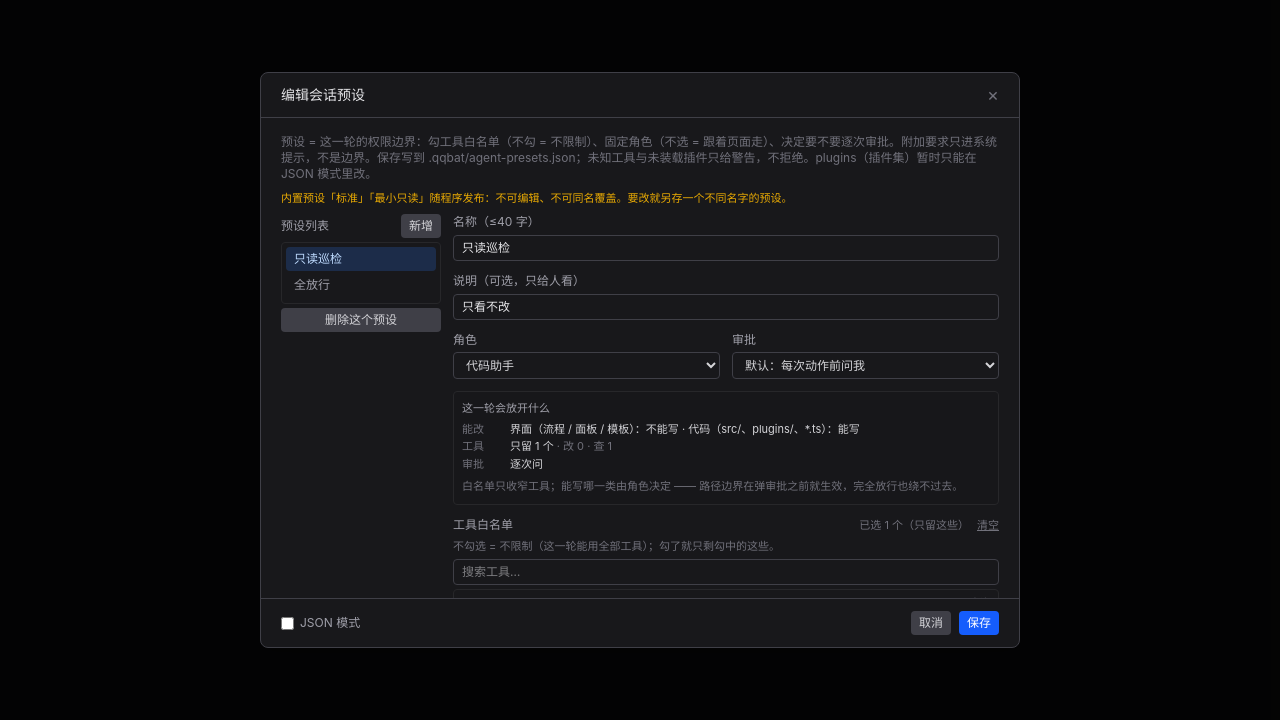
Test: 预设编辑（表单） › JSON 模式解析失败不吞内容：留在 JSON 模式并报错
Expected: the button "只读巡检" is shown, [286,247,436,271]
Click the checkbox labelled "JSON 模式" at (288, 623), box [281,616,294,630]
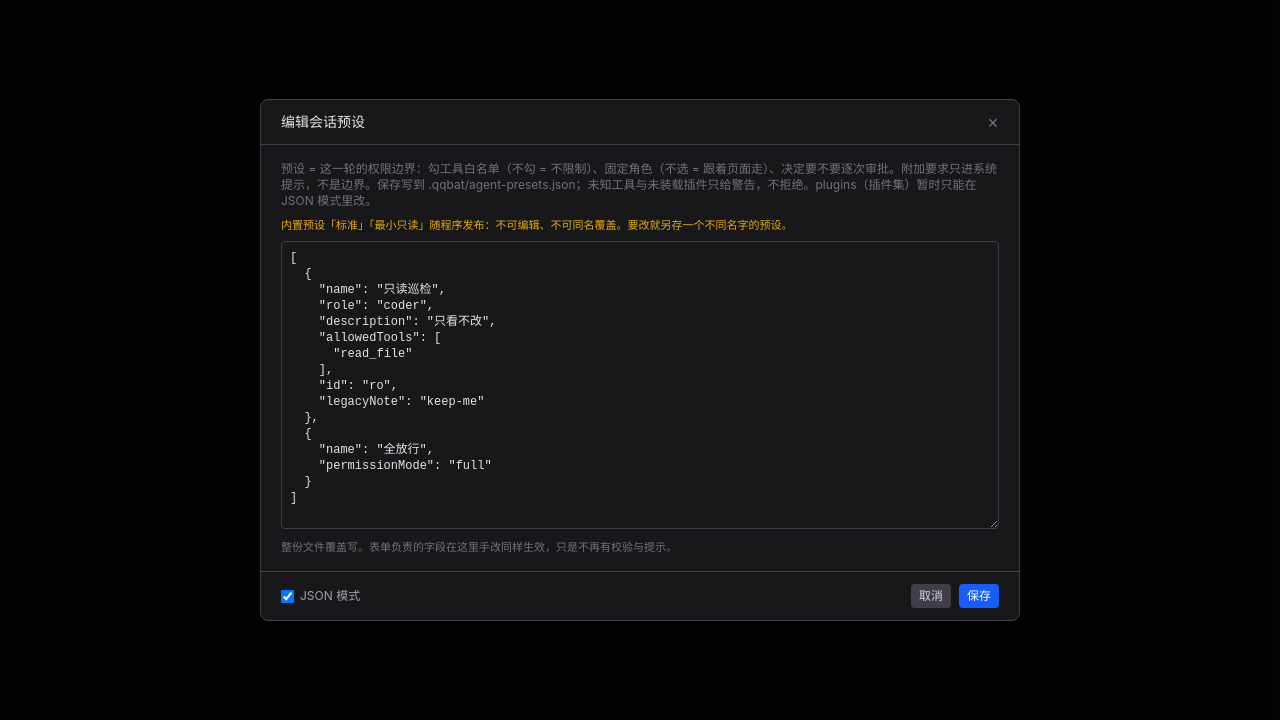
Replace the text in the text box named "JSON 模式" with "nope" at (640, 385), box [281,241,999,529]
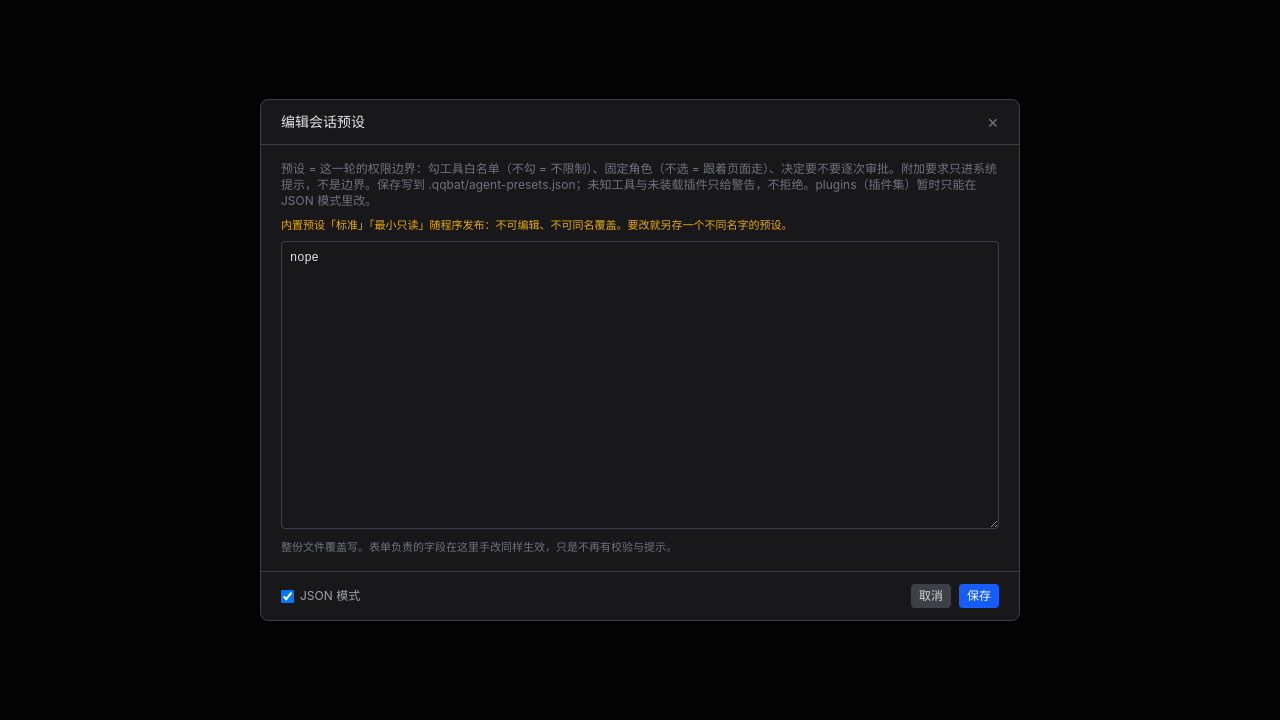
Click the checkbox labelled "JSON 模式" at (288, 596), box [281,590,294,603]
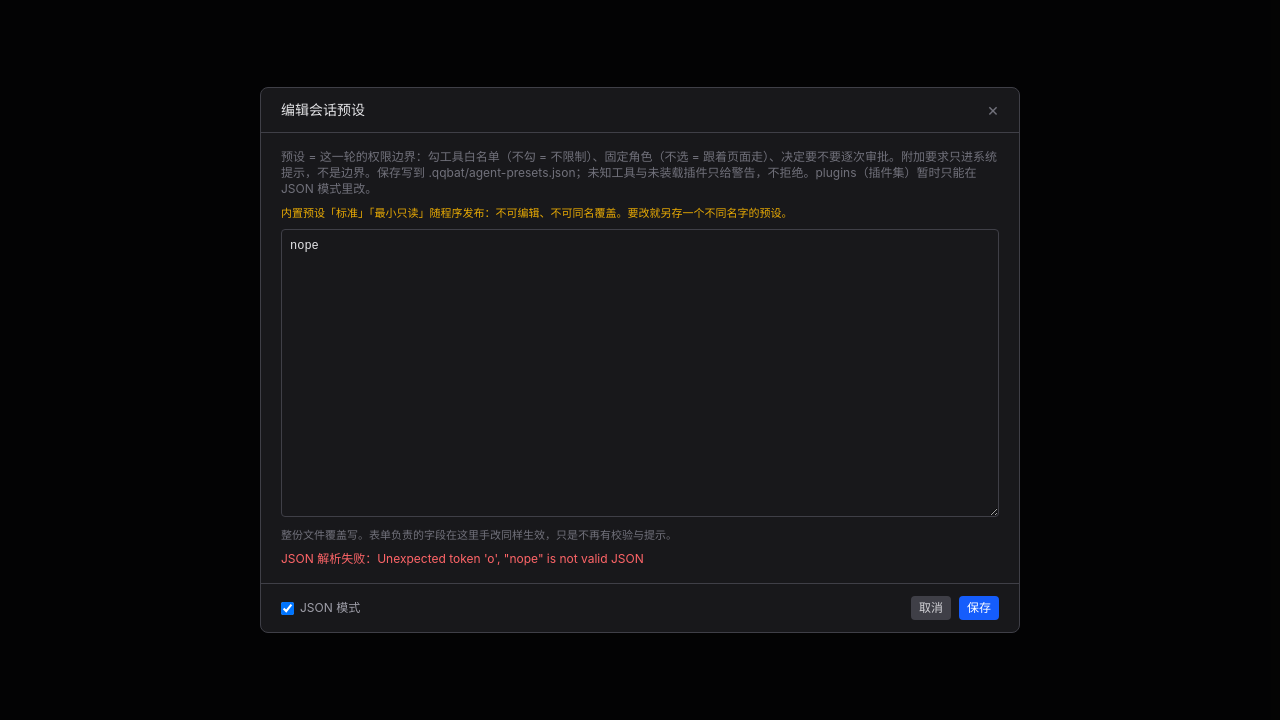
Result: the text "JSON 解析失败：Unexpected token 'o', \"nope\" is not valid JSON" is shown at [281,551,644,566]
